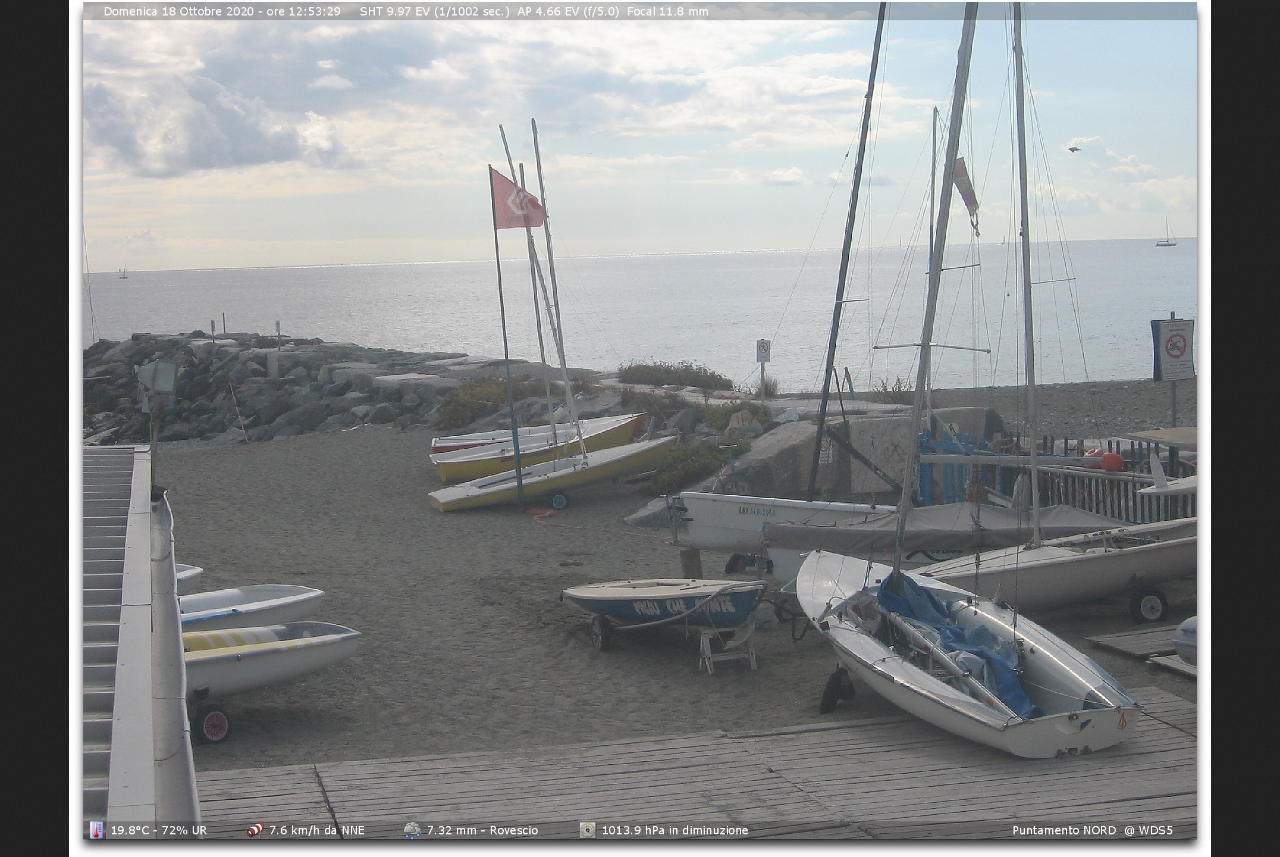maybe: (484, 160, 554, 236)
